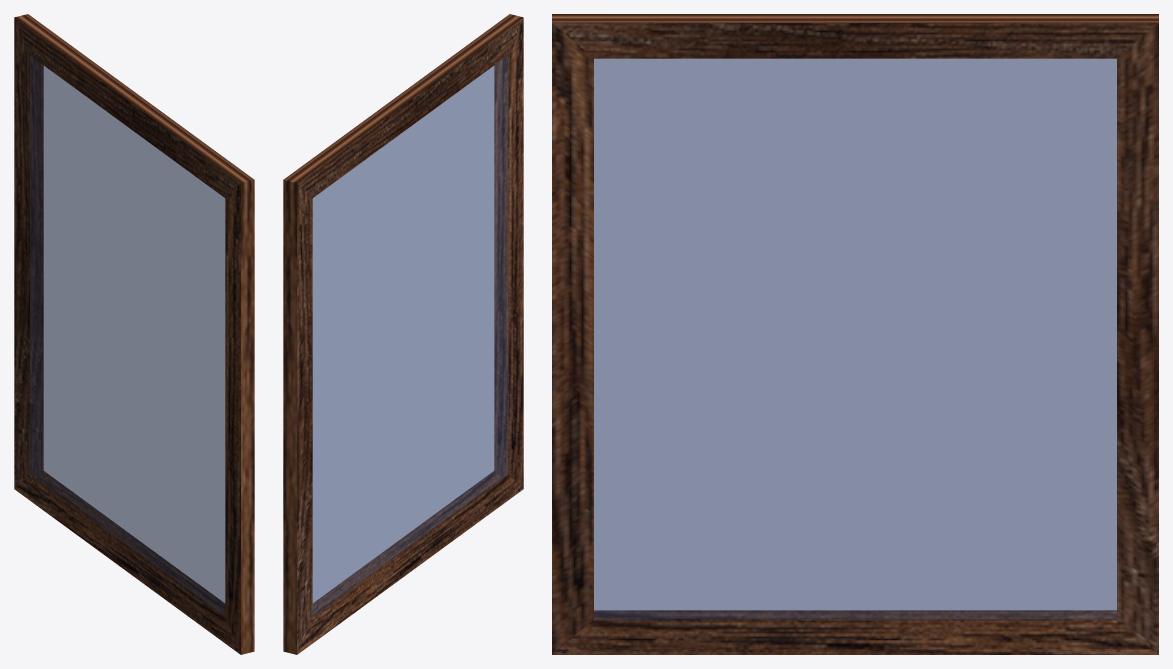
The model's file is Window_Small_Original.fbx.
The picture shows the model from 3 angles, left to right: view 1: azimuth 30°, elevation 25°; view 2: azimuth 150°, elevation 25°; view 3: azimuth 270°, elevation 25°; orthographic projection. The views are drawn at different scales.
Visible parts, largest first — view 1: Window_Small_Orignal; view 2: Window_Small_Orignal; view 3: Window_Small_Orignal.
Part boxes in pixels (x1,y1,x2,y2): Window_Small_Orignal: (14,14,254,654); Window_Small_Orignal: (283,14,523,654); Window_Small_Orignal: (552,14,1158,654).
Bounding box in the file's own units: 0.5329 × 17.4 × 15.14.
2 materials, 1 textured.
